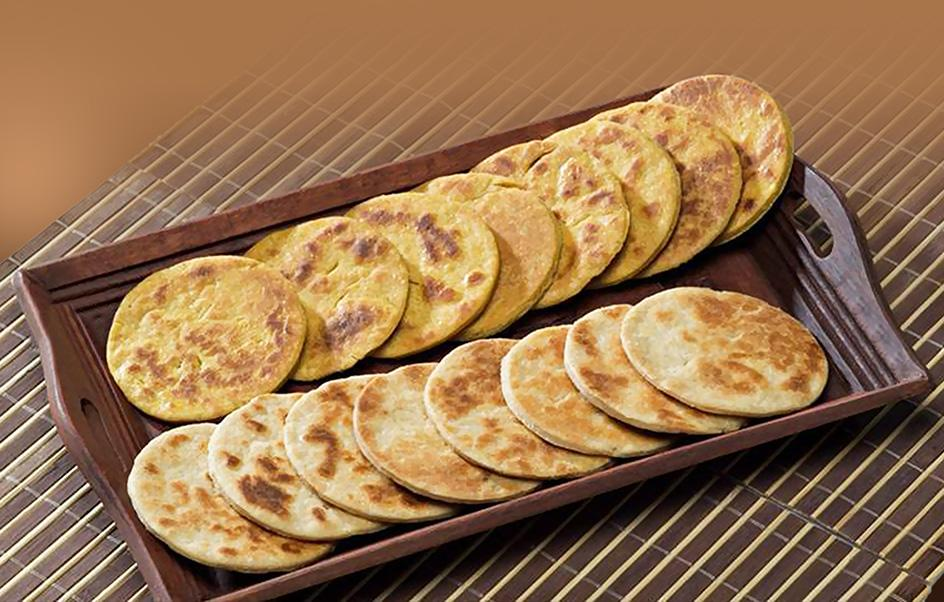bhakri: (106, 278, 321, 425)
